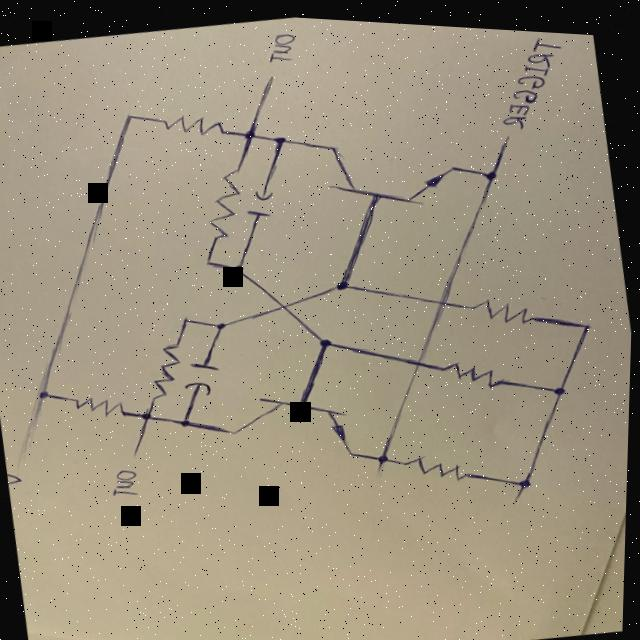capacitor: (182, 352, 226, 397), (241, 181, 280, 226)
crossover: (424, 282, 459, 314), (403, 343, 435, 373), (271, 290, 298, 317)
junction: (543, 369, 578, 401), (325, 268, 361, 295), (309, 324, 343, 351), (568, 304, 600, 332), (370, 440, 397, 469), (172, 409, 201, 435), (477, 157, 502, 183), (133, 403, 162, 424), (195, 252, 220, 273), (512, 466, 541, 484), (31, 384, 56, 404), (236, 122, 261, 142), (268, 127, 293, 147), (208, 313, 232, 333), (117, 107, 141, 125), (227, 256, 248, 274), (175, 310, 196, 328)
resistor: (197, 156, 247, 245), (401, 441, 484, 487), (439, 346, 512, 392), (143, 333, 188, 406), (470, 284, 538, 328), (159, 106, 227, 145), (74, 389, 128, 423)
terminal: (9, 422, 45, 472), (506, 482, 531, 515), (254, 69, 282, 98), (127, 432, 153, 463), (495, 126, 518, 155)
text: (488, 23, 573, 129), (104, 463, 148, 503), (262, 26, 298, 65), (9, 470, 27, 489)
transistor: (317, 111, 466, 220), (228, 372, 359, 470)
